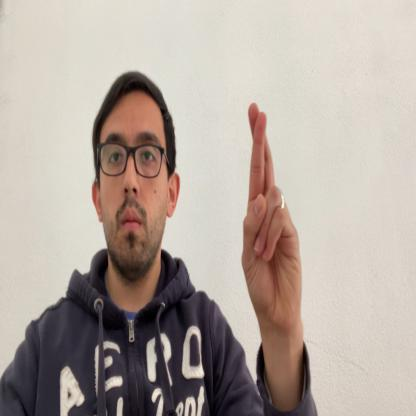R: (241, 101, 303, 335)
